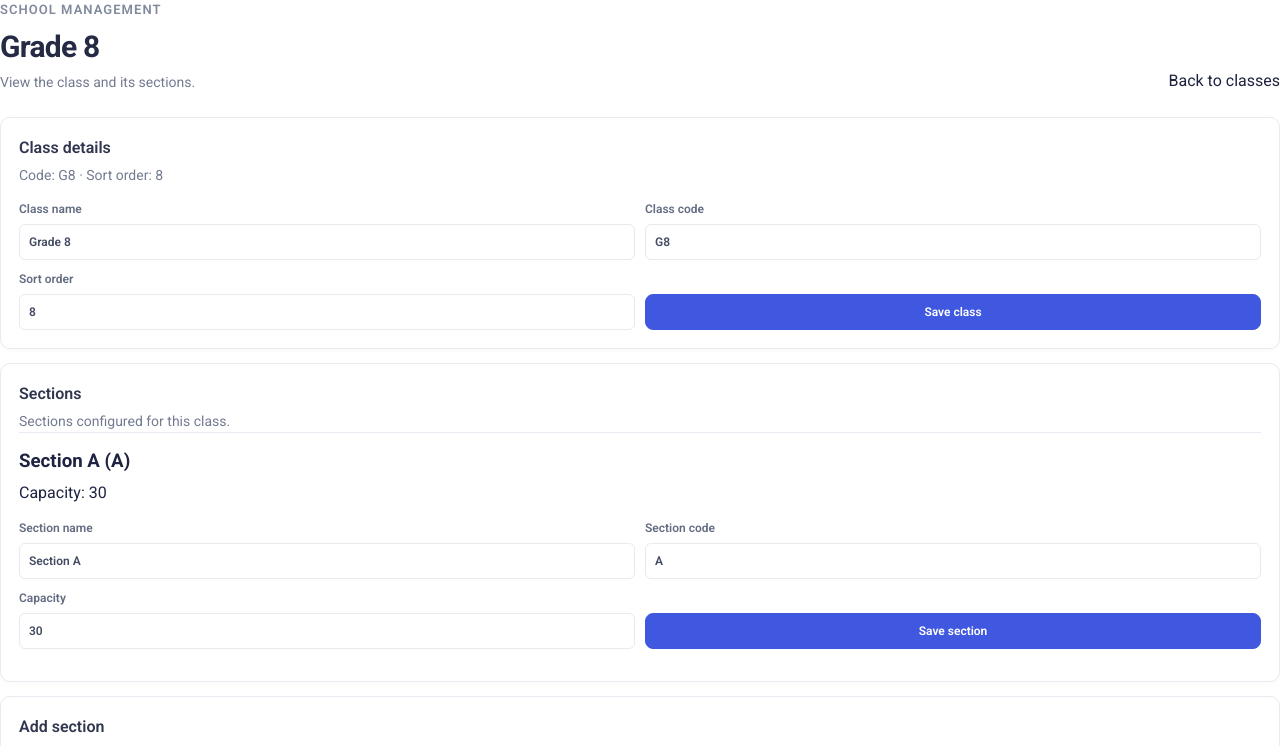
it: API-mode class and section creation › edits class details and section capacity, and shows server conflicts
This screenshot has width=1280, height=746.
Replace the text in the field labelled "Class name" with "Grade 9" at [327, 242], box left=19, top=224, right=635, bottom=260
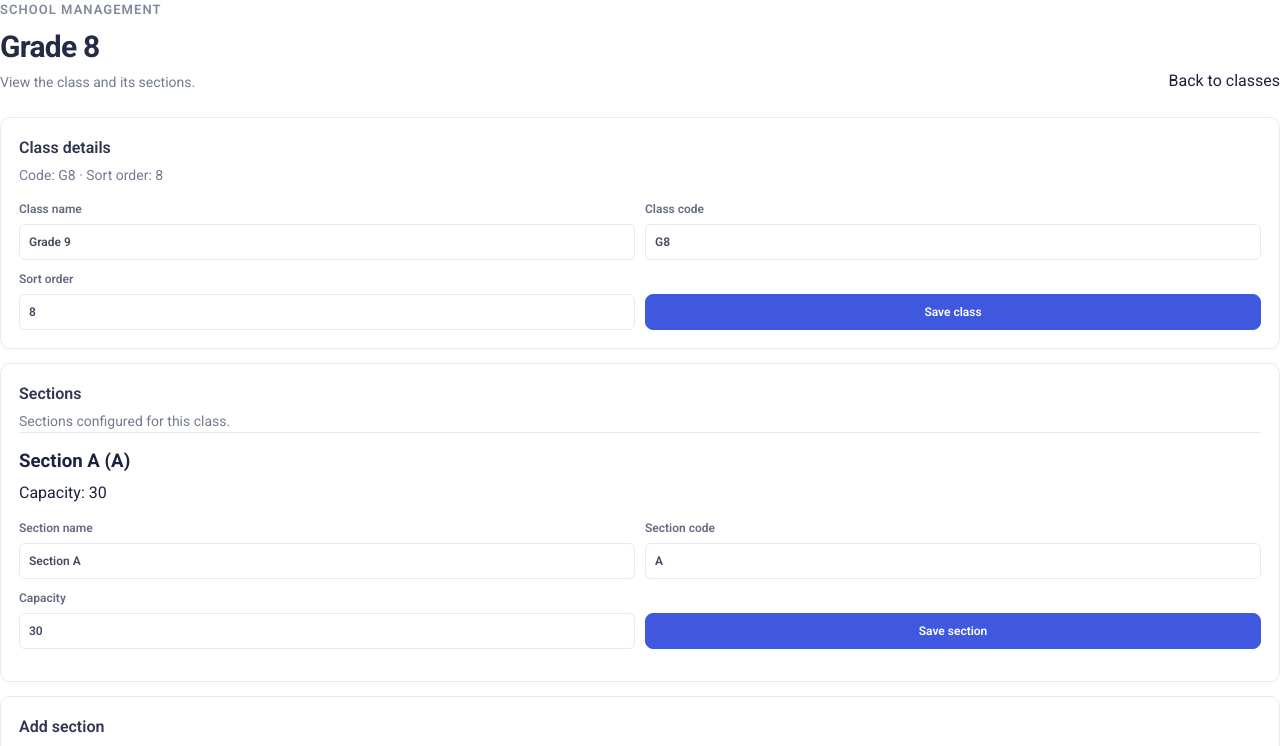
Click the button "Save class".
click(953, 312)  # box left=645, top=294, right=1261, bottom=330
(page scrolled)
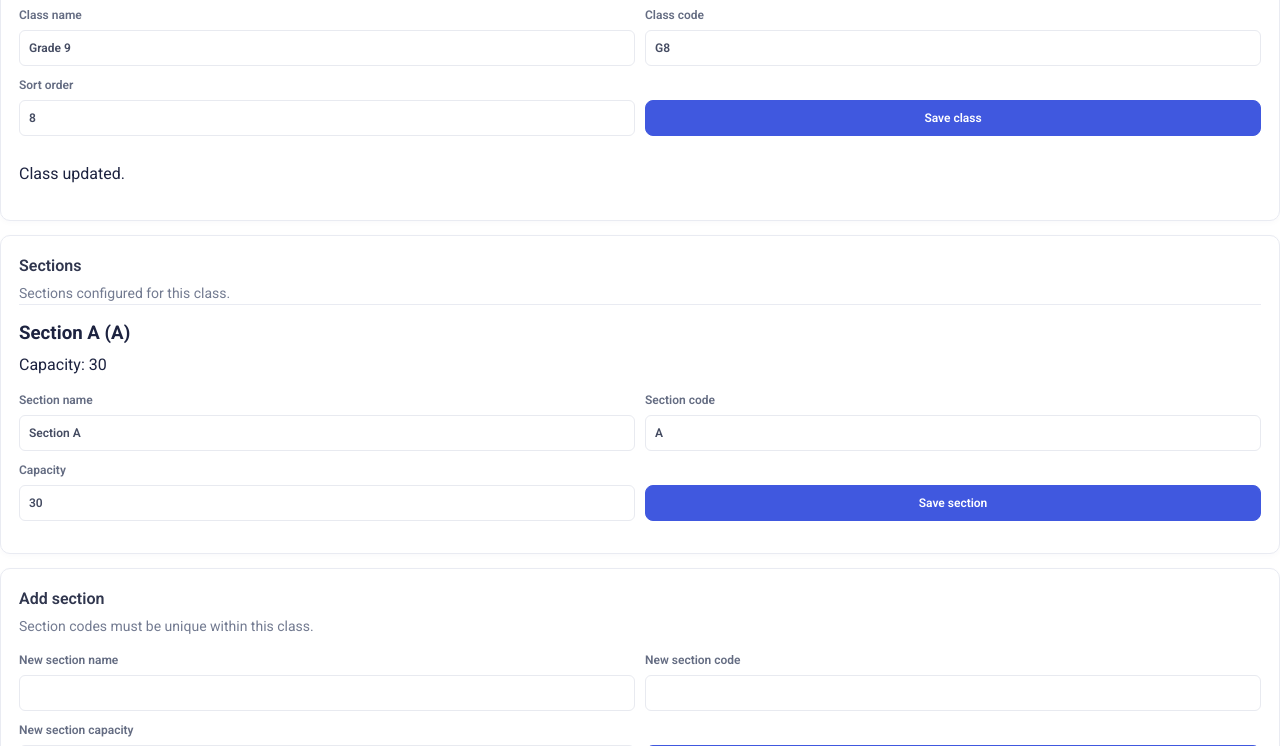
Replace the text in the number field labelled "Capacity" with "1" at [327, 503], box left=19, top=485, right=635, bottom=521
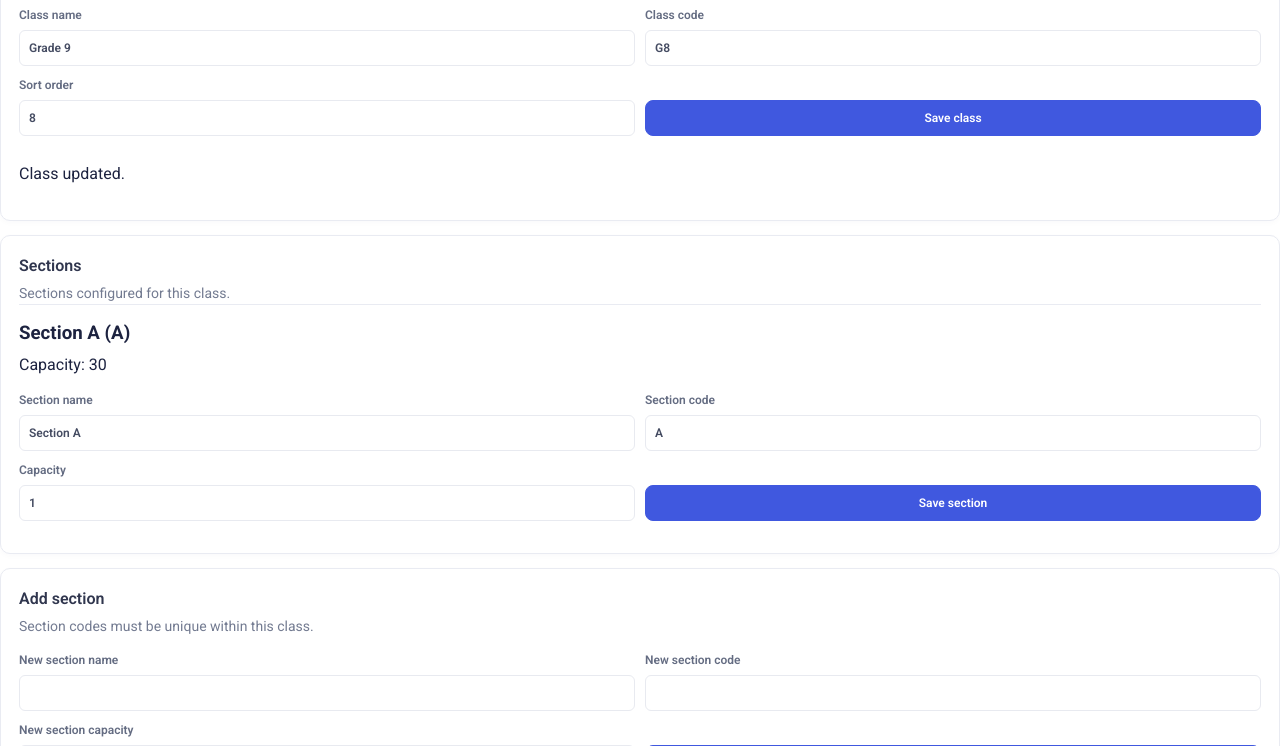
Click the button "Save section".
click(953, 503)  # box left=645, top=485, right=1261, bottom=521
(page scrolled)
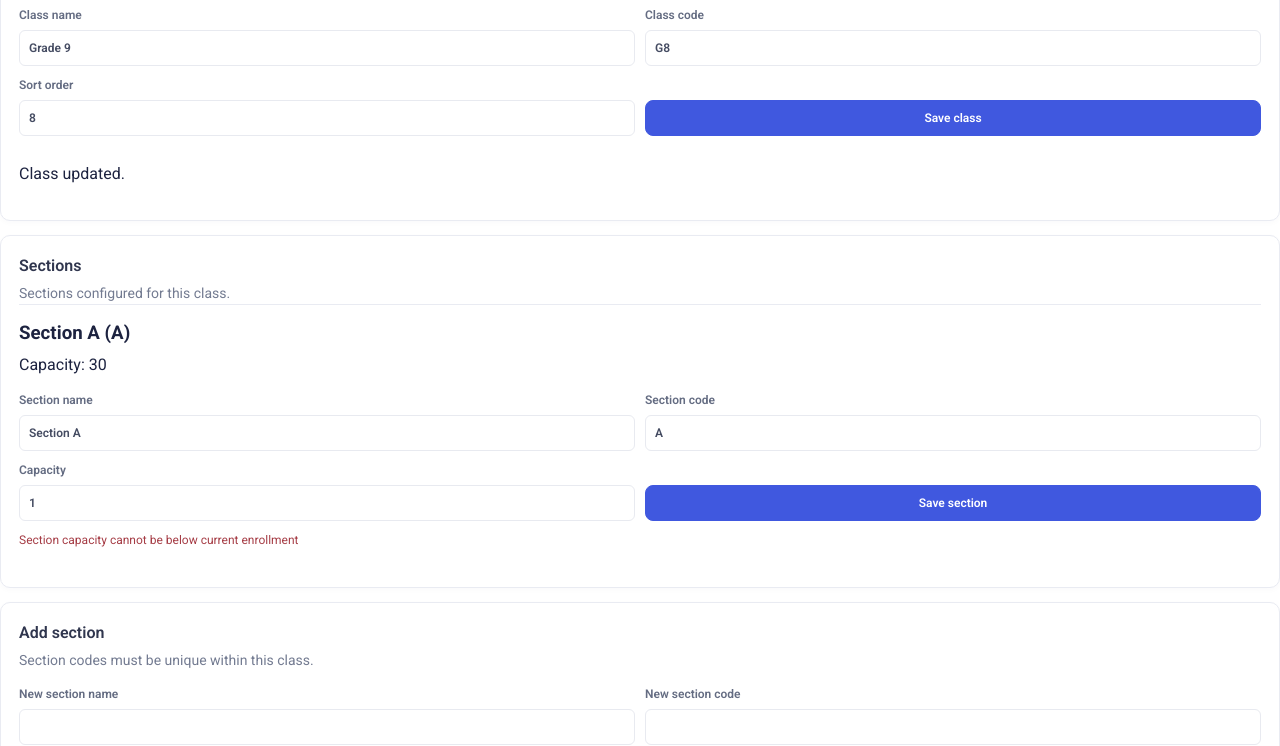
Check: the message "Section capacity cannot be below current enrollment" is shown, box left=19, top=533, right=298, bottom=547
